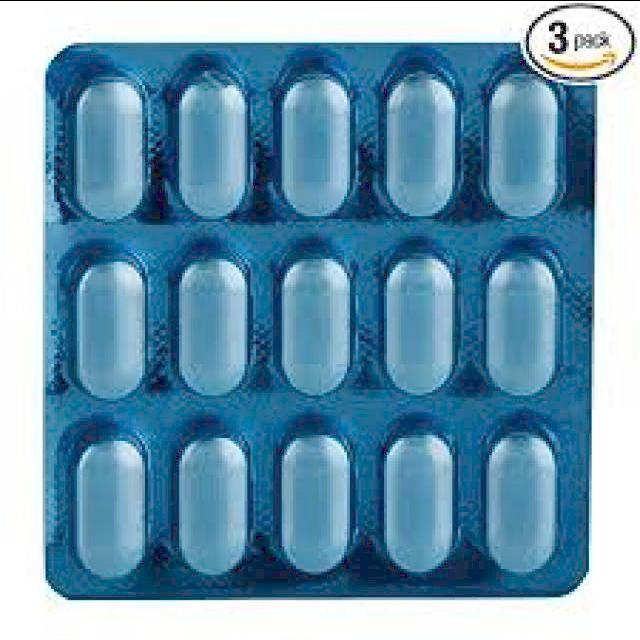authentic: (33, 5, 640, 622)
